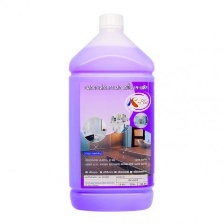cleaning_solution: (65, 8, 156, 214)
